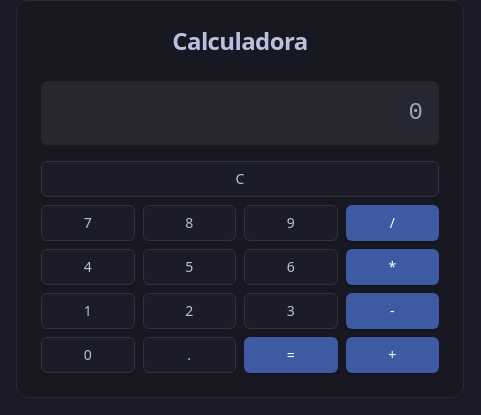
it: Calculator Component › performs addition operation correctly
The image size is (481, 415).
Step 1. Click the button "5" → (190, 267), box [143,249,237,285]
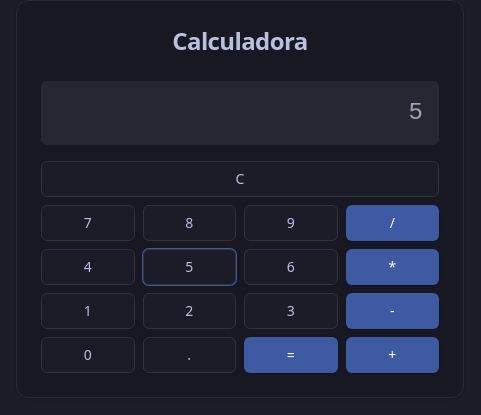
Step 2. Click the button "+" → (393, 355), box [346,337,440,373]
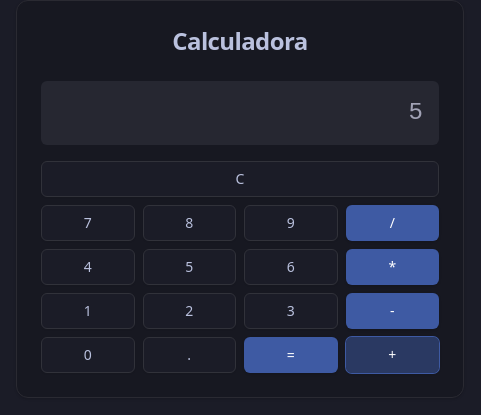
Step 3. Click the button "3" → (291, 311), box [244,293,338,329]
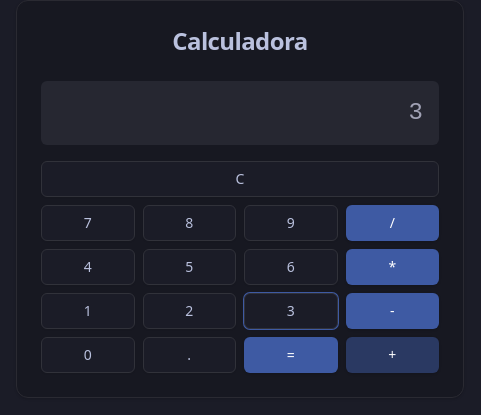
Step 4. Click the button "=" → (291, 355), box [244,337,338,373]
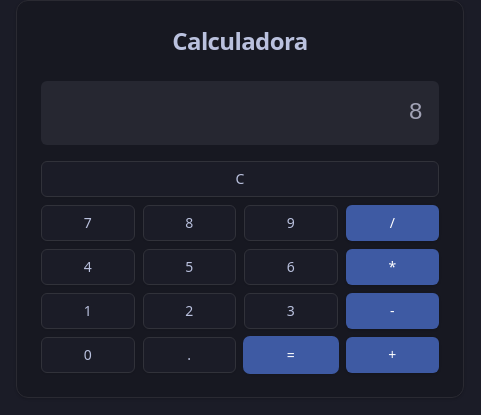
expect the text "8" is shown: met, box [409,99,423,126]
